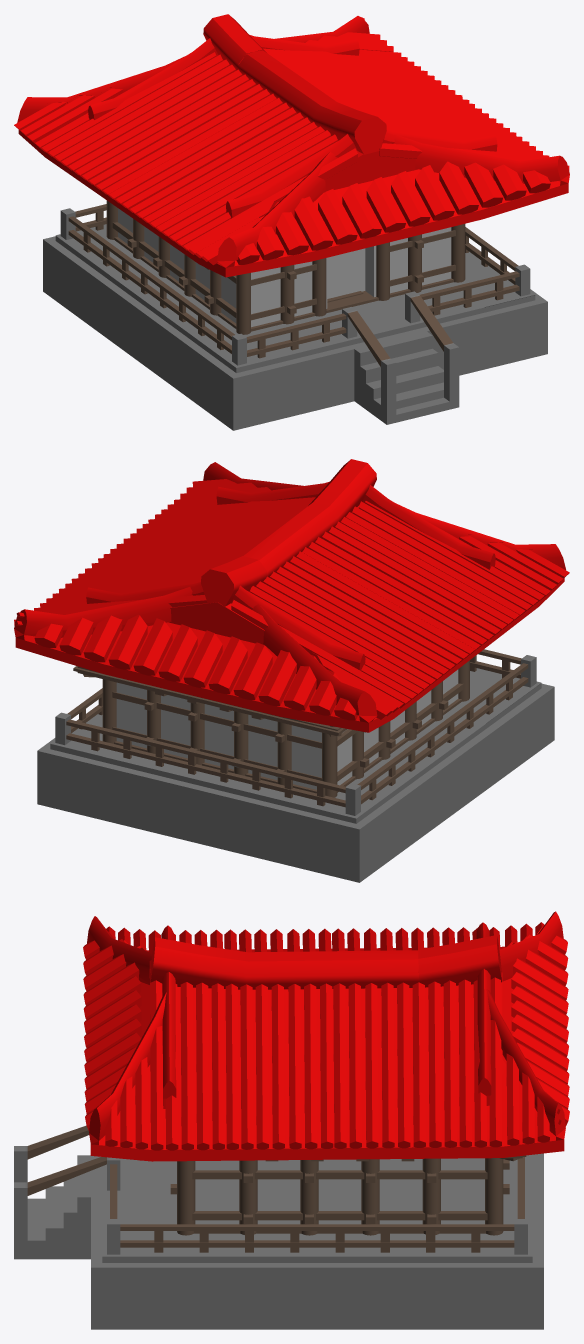
Rendered from Japanese_house_01.fbx.
3 views of the same model, one above another, from view 1: azimuth 30°, elevation 25°; view 2: azimuth 150°, elevation 25°; view 3: azimuth 270°, elevation 25° (orthographic). The views are drawn at different scales.
Parts seen in each view (by area): view 1: Japanese_house_01; view 2: Japanese_house_01; view 3: Japanese_house_01.
Part boxes in pixels (x1=…): Japanese_house_01: x1=14, y1=14, x2=569, y2=430; Japanese_house_01: x1=14, y1=459, x2=569, y2=882; Japanese_house_01: x1=14, y1=911, x2=569, y2=1329.
Bounding box in the file's own units: 131 × 84.5 × 142.
